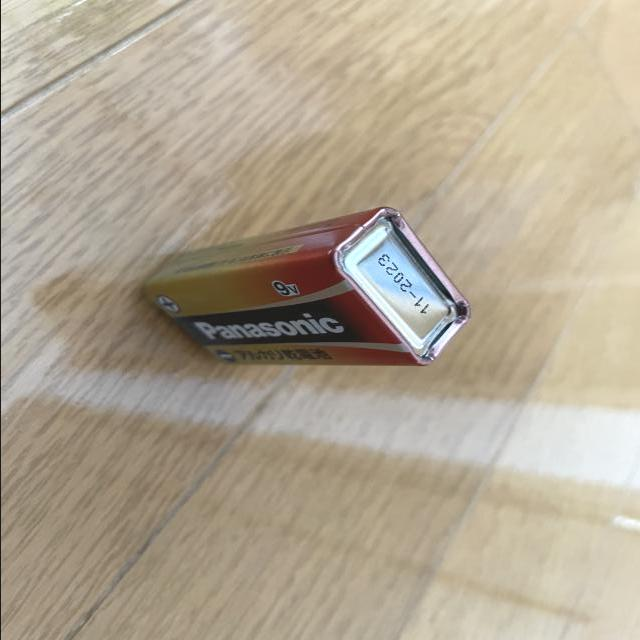9V: (138, 206, 471, 366)
